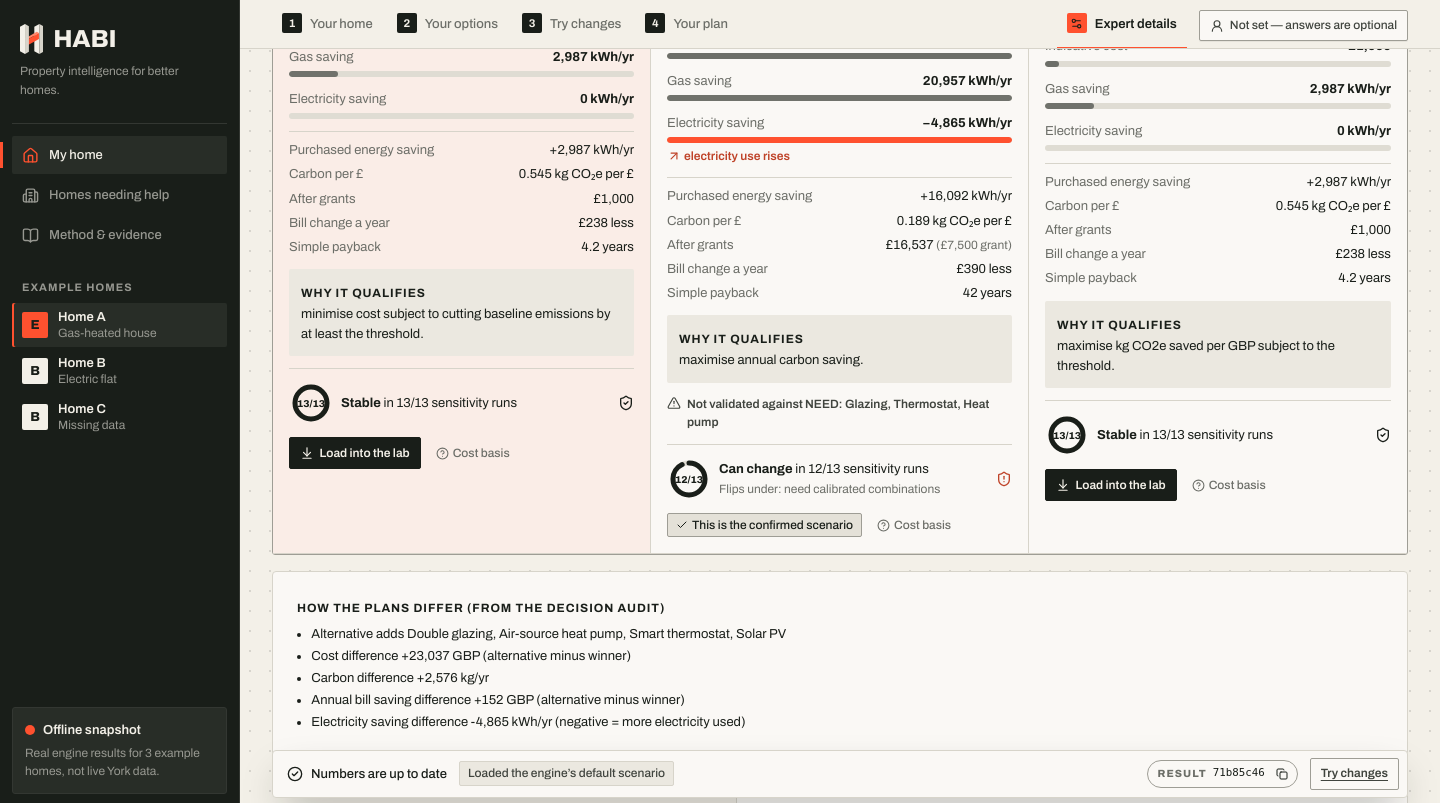
it: My Home: demo home A (Poor gas house) › loads a featured plan into the lab and recalculates
(page scrolled)
What coordinates should you click on to do the following:
click the 1st button "Load into the lab"
I would click on:
 (355, 454)
Its box is [289, 438, 421, 470].
(page scrolled)
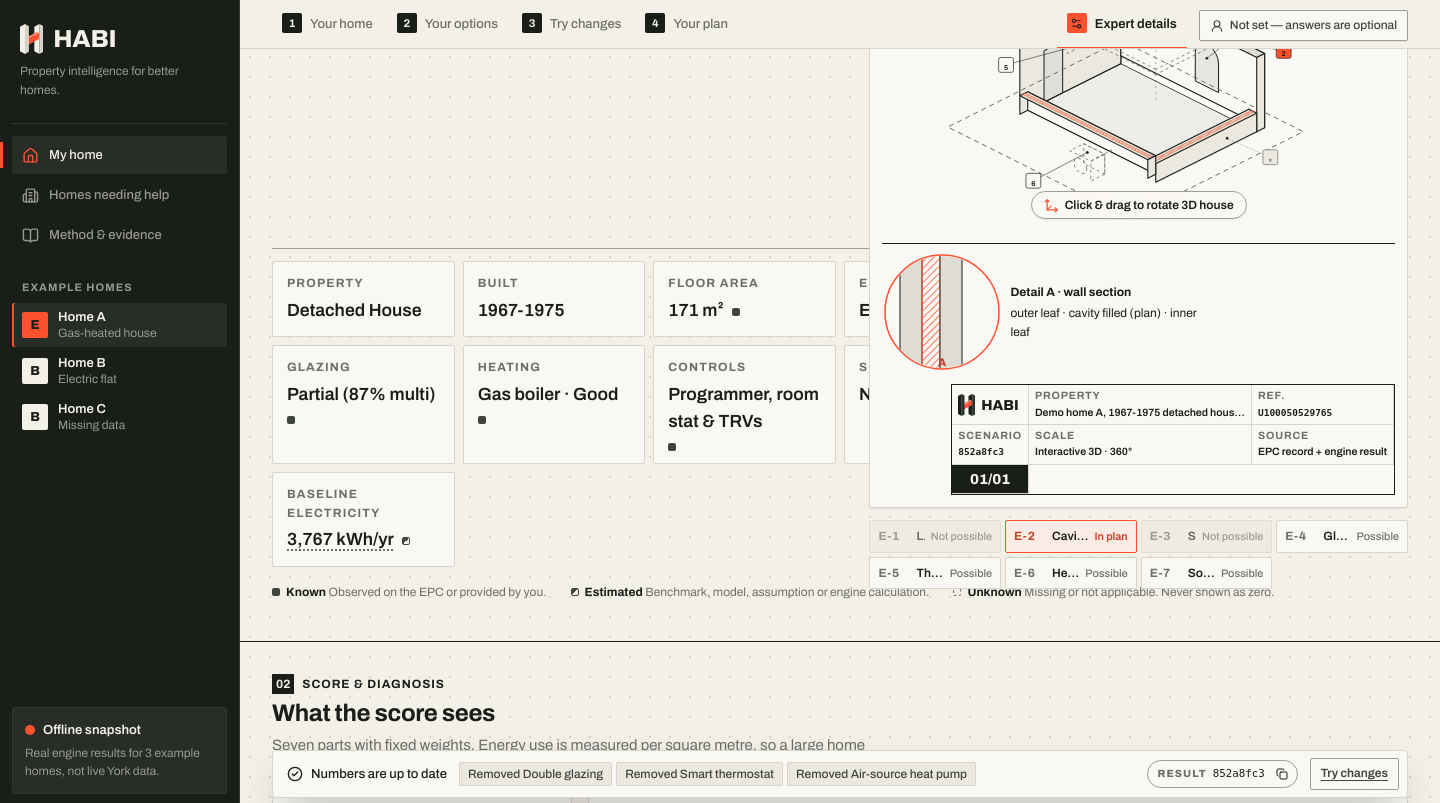
Expected: the text "852a8fc3" next to "Interactive 3D · 360°" is shown, [958, 446, 1004, 457]
